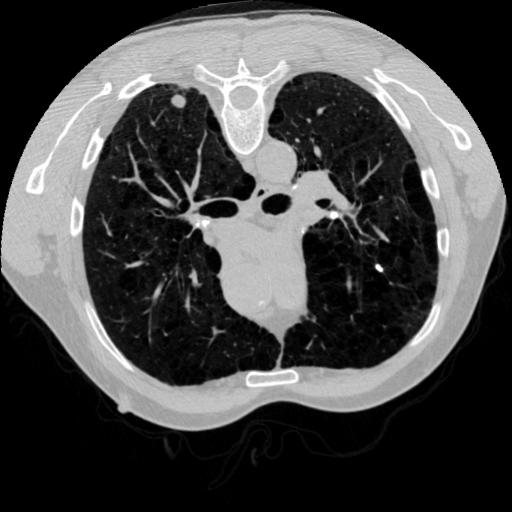nodule: (373, 263, 385, 275)
